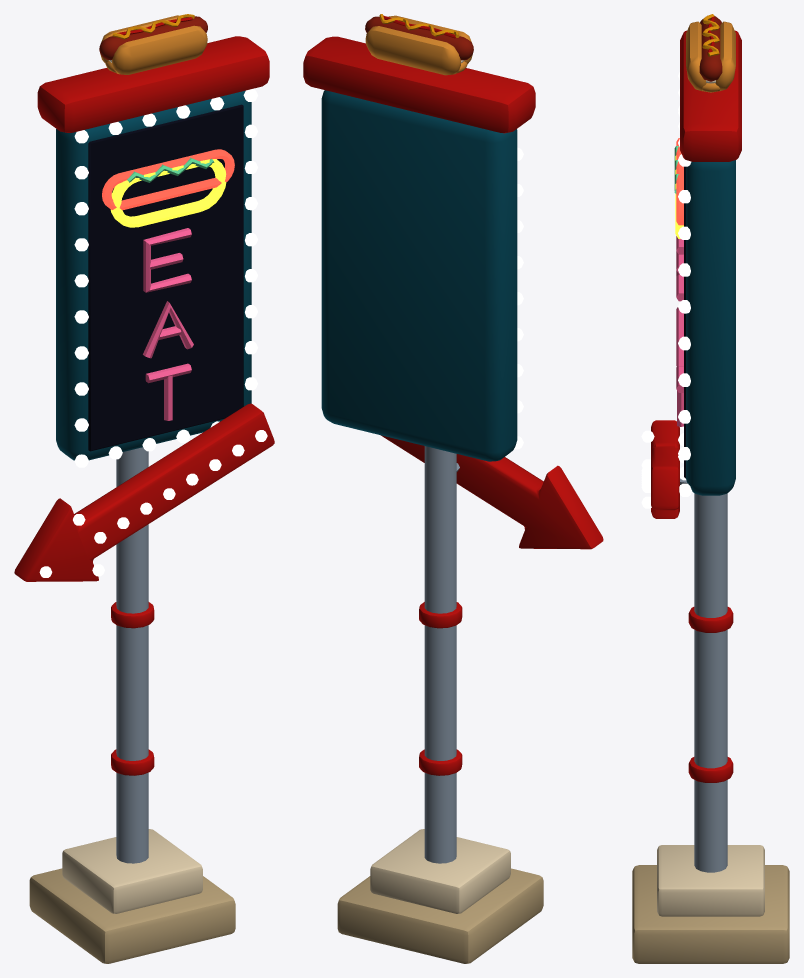
File: NeonSign.fbx
3 renders of one model, left to right at view 1: azimuth 30°, elevation 25°; view 2: azimuth 150°, elevation 25°; view 3: azimuth 270°, elevation 25°, orthographic.
Visible parts, largest first — view 1: NeonSign; view 2: NeonSign; view 3: NeonSign.
Part boxes in pixels (x1,y1,x2,y2): NeonSign: (14, 14, 274, 963); NeonSign: (303, 14, 603, 963); NeonSign: (632, 14, 789, 963).
Bounding box in the file's own units: 3.72 × 12.12 × 1.9.
